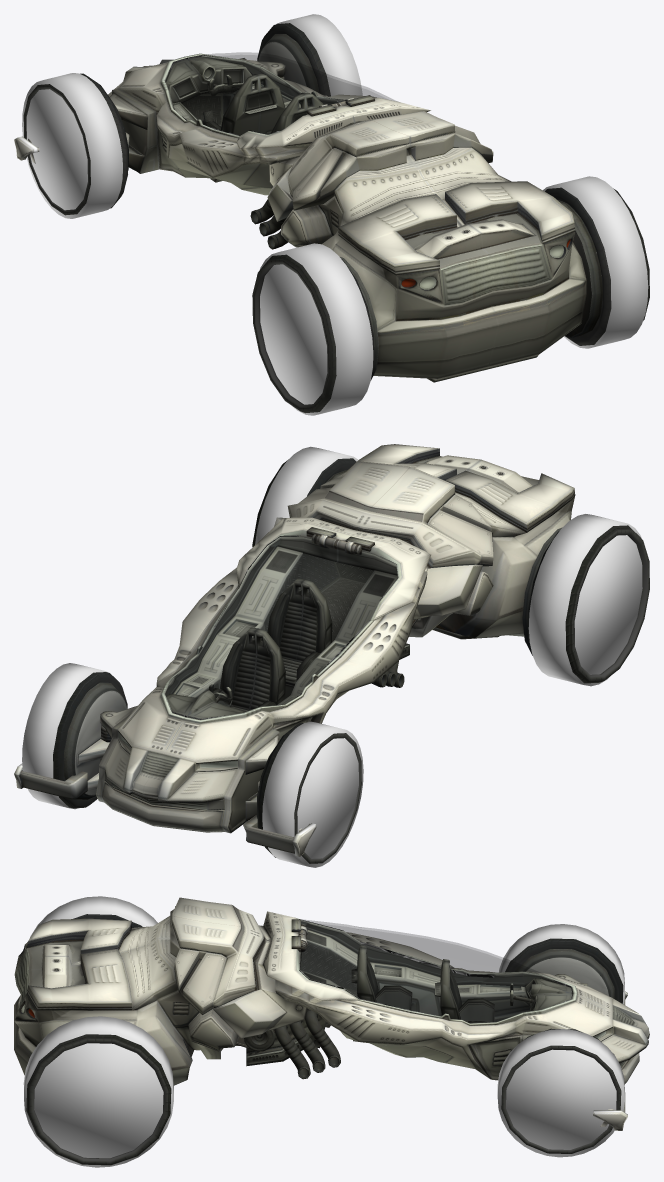
File: Enemy 1.fbx
3 renders of one model, top to bottom at view 1: azimuth 30°, elevation 25°; view 2: azimuth 150°, elevation 25°; view 3: azimuth 270°, elevation 25°, orthographic. The views are drawn at different scales.
Parts seen in each view (by area): view 1: Car_Mesh, Back_Wheel_Force_1_L, Front_Wheel_Force_1_L, Back_Wheel_Force_1_R, Back_Wheel_Mesh_1_L, Car_Glas_Mesh, Front_Wheel_Force_1_R, Back_Wheel_Mesh_1_R, Back_Suspension_R, Front_Wheel_Mesh_2_L, Front_Wheel_Mesh_1_R, Front_Steering_Mesh_2_R (+2 smaller); view 2: Car_Mesh, Back_Wheel_Force_1_L, Front_Wheel_Force_1_L, Front_Wheel_Mesh_1_R, Front_Wheel_Force_1_R, Back_Wheel_Mesh_1_L, Back_Wheel_Force_1_R, Front_Steering_Mesh_2_R, Front_Wheel_Mesh_2_L, Front_Steering_Mesh_1_L, Car_Glas_Mesh, Back_Wheel_Mesh_1_R (+1 smaller); view 3: Car_Mesh, Back_Wheel_Force_1_R, Front_Wheel_Force_1_R, Car_Glas_Mesh, Back_Wheel_Mesh_1_R, Front_Steering_Mesh_1_L, Front_Wheel_Force_1_L, Back_Wheel_Force_1_L, Front_Steering_Mesh_2_R, Front_Wheel_Mesh_2_L, Front_Wheel_Mesh_1_R.
Part boxes in pixels (bbox=[...]): Car_Mesh: bbox=[108, 53, 586, 382]; Back_Wheel_Force_1_L: bbox=[260, 243, 373, 415]; Front_Wheel_Force_1_L: bbox=[22, 73, 122, 218]; Back_Wheel_Force_1_R: bbox=[543, 176, 648, 348]; Back_Wheel_Mesh_1_L: bbox=[252, 254, 374, 413]; Car_Glas_Mesh: bbox=[168, 52, 394, 135]; Front_Wheel_Force_1_R: bbox=[276, 14, 362, 96]; Back_Wheel_Mesh_1_R: bbox=[545, 187, 649, 345]; Back_Suspension_R: bbox=[557, 199, 602, 337]; Front_Wheel_Mesh_2_L: bbox=[23, 73, 127, 215]; Front_Wheel_Mesh_1_R: bbox=[258, 34, 319, 92]; Front_Steering_Mesh_2_R: bbox=[257, 23, 330, 96]; Car_Mesh: bbox=[96, 444, 575, 833]; Back_Wheel_Force_1_L: bbox=[528, 514, 642, 686]; Front_Wheel_Force_1_L: bbox=[262, 721, 363, 867]; Front_Wheel_Mesh_1_R: bbox=[14, 682, 127, 799]; Front_Wheel_Force_1_R: bbox=[22, 663, 107, 809]; Back_Wheel_Mesh_1_L: bbox=[527, 525, 649, 683]; Back_Wheel_Force_1_R: bbox=[255, 446, 358, 544]; Front_Steering_Mesh_2_R: bbox=[53, 672, 127, 808]; Front_Wheel_Mesh_2_L: bbox=[257, 723, 361, 863]; Front_Steering_Mesh_1_L: bbox=[243, 751, 316, 856]; Car_Glas_Mesh: bbox=[166, 535, 398, 719]; Back_Wheel_Mesh_1_R: bbox=[252, 458, 356, 546]; Car_Mesh: bbox=[14, 897, 649, 1085]; Back_Wheel_Force_1_R: bbox=[23, 1016, 173, 1167]; Front_Wheel_Force_1_R: bbox=[497, 1029, 624, 1157]; Car_Glas_Mesh: bbox=[299, 919, 572, 1019]; Back_Wheel_Mesh_1_R: bbox=[26, 1034, 171, 1165]; Front_Steering_Mesh_1_L: bbox=[515, 949, 627, 1004]; Front_Wheel_Force_1_L: bbox=[499, 924, 624, 1004]; Back_Wheel_Force_1_L: bbox=[29, 896, 157, 938]; Front_Steering_Mesh_2_R: bbox=[501, 1028, 621, 1153]; Front_Wheel_Mesh_2_L: bbox=[505, 938, 623, 1003]; Front_Wheel_Mesh_1_R: bbox=[593, 1092, 627, 1130].
Bounding box in the file's own units: 365 × 224 × 702.
